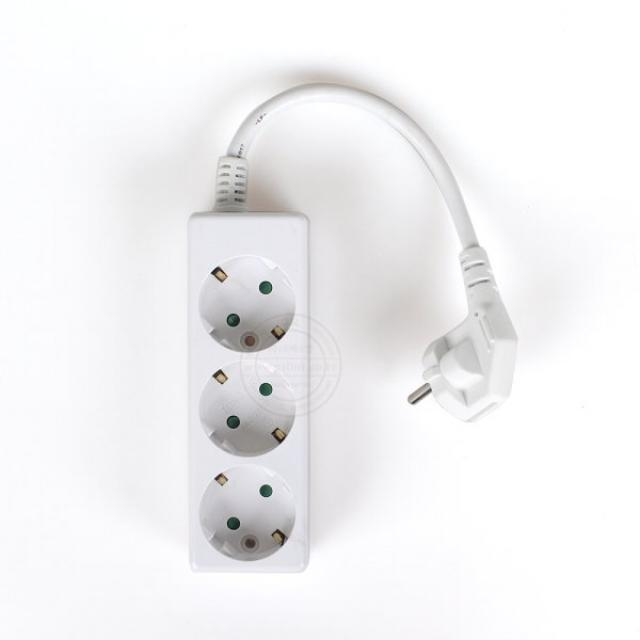typeb: (155, 172, 343, 600)
